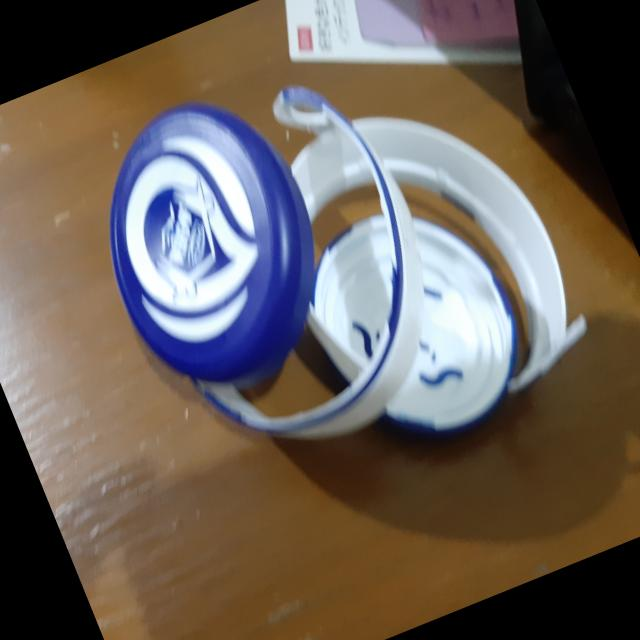TutupGalon: (60, 0, 608, 532)
